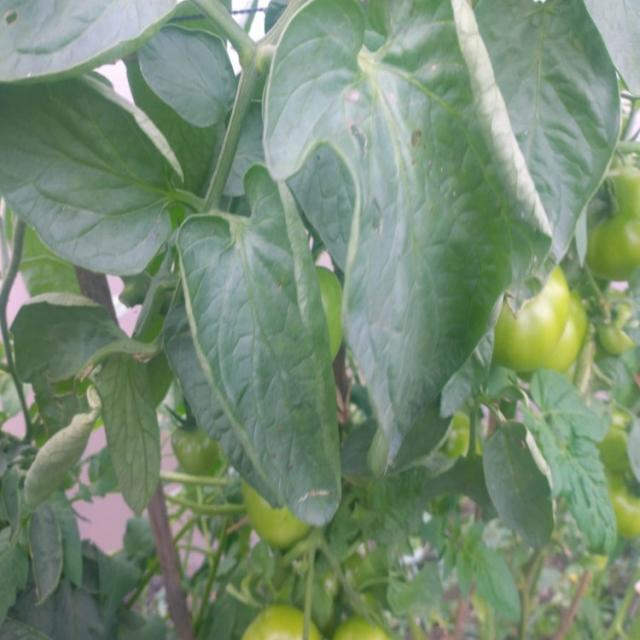tomato: (495, 266, 593, 378), (582, 159, 640, 275), (244, 470, 309, 547), (593, 432, 640, 535), (316, 265, 352, 359), (169, 420, 219, 482), (241, 606, 327, 640), (331, 620, 387, 640)
